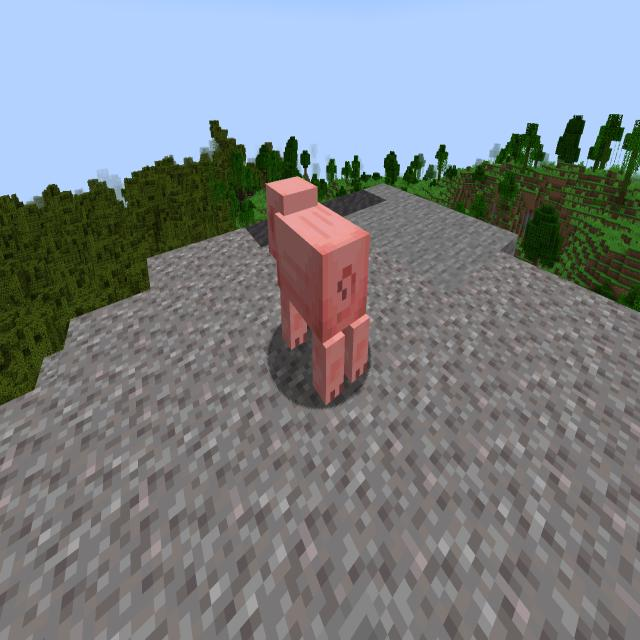pig: (256, 157, 382, 422)
